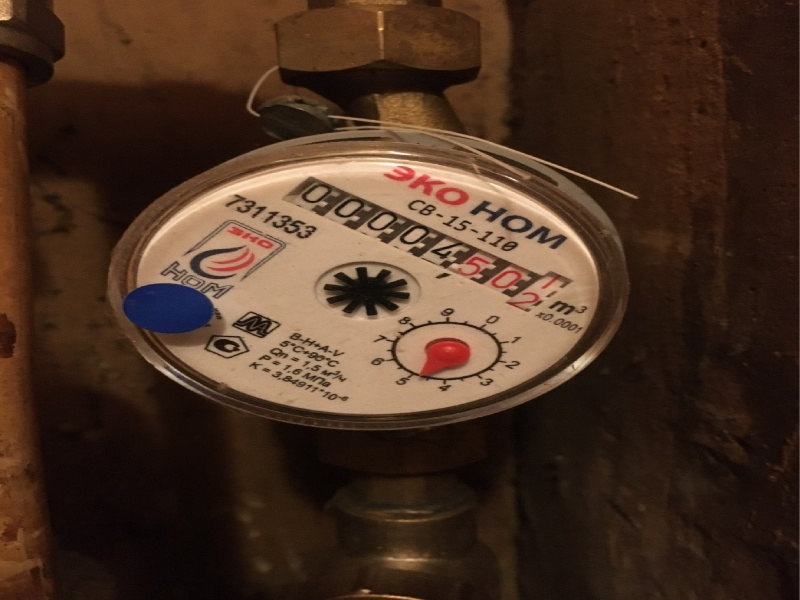meter: (305, 185, 555, 301)
